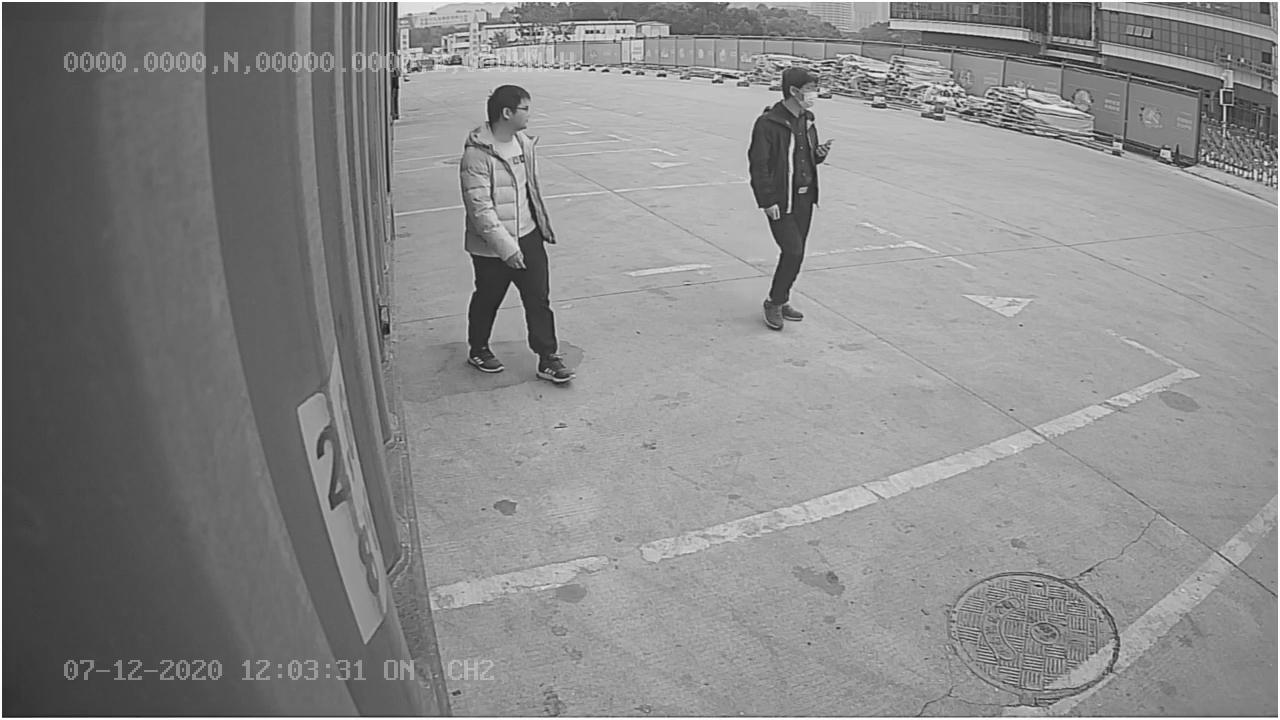person: (454, 84, 584, 387), (740, 62, 829, 333)
